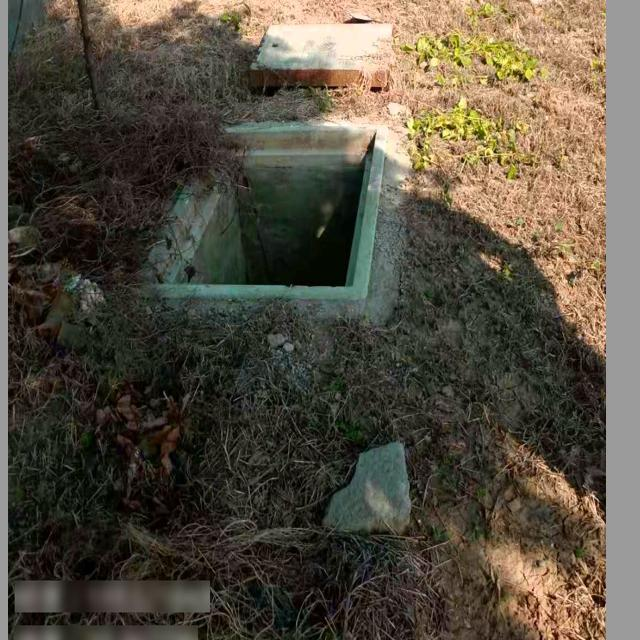lose: (130, 120, 387, 304)
